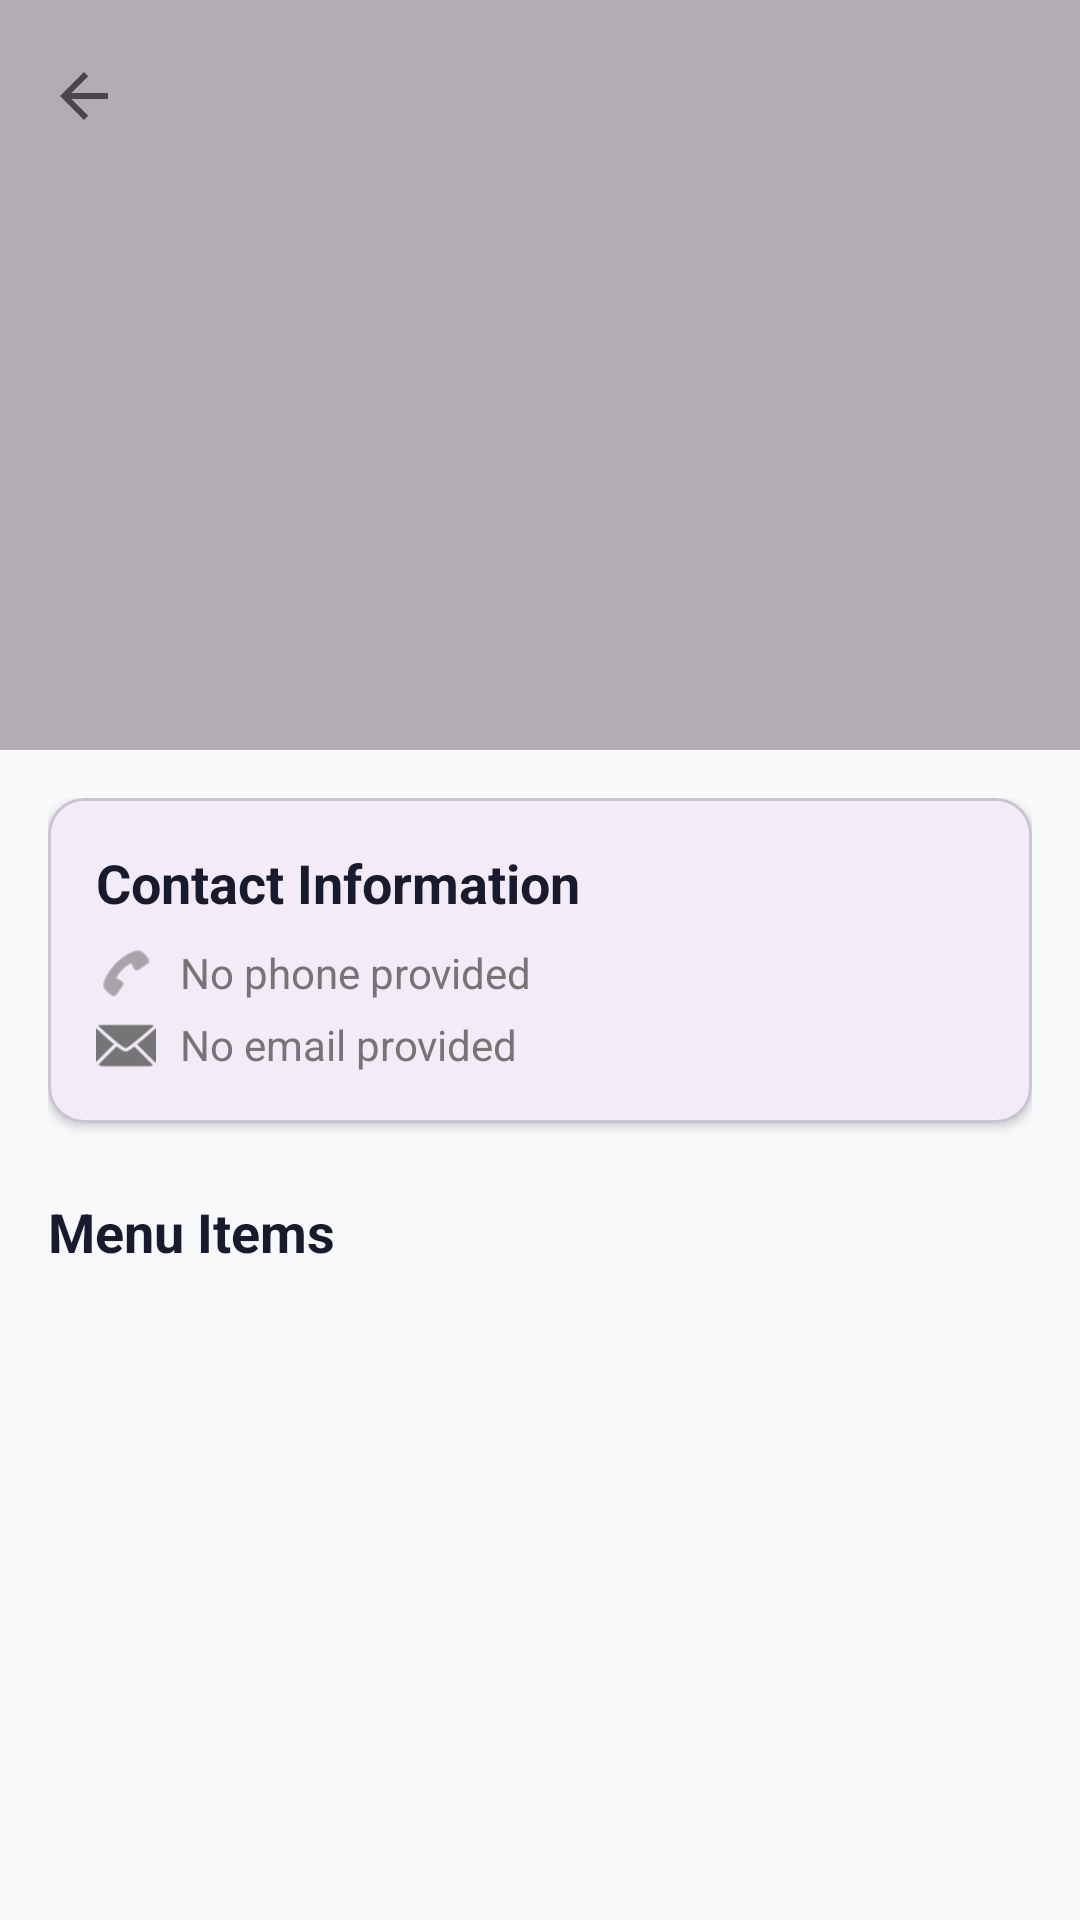

Named icons in this screenshot (1080px x 1920px) and their centers, point (x, y):
call: point (126, 973)
